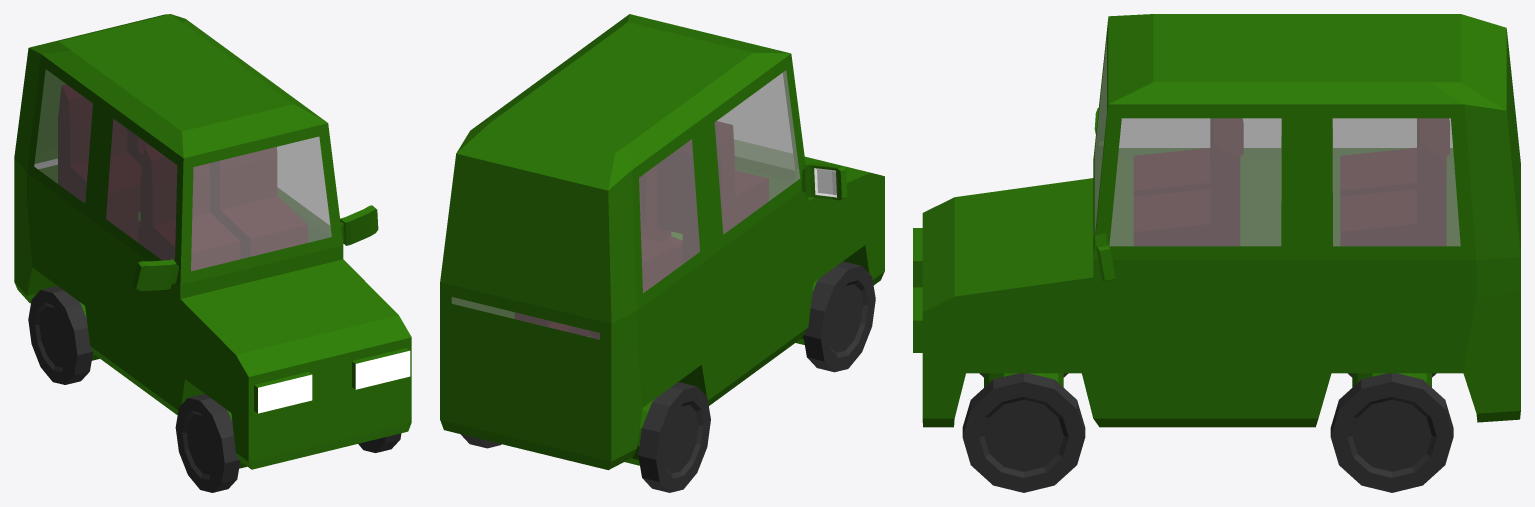
The model's file is cars2.glb.
3 renders of one model, left to right at view 1: azimuth 30°, elevation 25°; view 2: azimuth 150°, elevation 25°; view 3: azimuth 270°, elevation 25°, orthographic. The views are drawn at different scales.
Parts seen in each view (by area): view 1: Car2, Car2Tire1, Car2Tire2; view 2: Car2, Car2Tire2, Car2Tire1; view 3: Car2, Car2Tire1, Car2Tire2.
Part boxes in pixels (x1=…): Car2: x1=14, y1=14, x2=411, y2=469; Car2Tire1: x1=175, y1=394, x2=401, y2=492; Car2Tire2: x1=28, y1=286, x2=99, y2=384; Car2: x1=440, y1=14, x2=884, y2=470; Car2Tire2: x1=460, y1=382, x2=710, y2=492; Car2Tire1: x1=796, y1=261, x2=875, y2=372; Car2: x1=913, y1=14, x2=1520, y2=427; Car2Tire1: x1=962, y1=373, x2=1085, y2=492; Car2Tire2: x1=1330, y1=373, x2=1453, y2=492.
Size of the model in its own units: 1.42 by 1.75 by 2.48.
